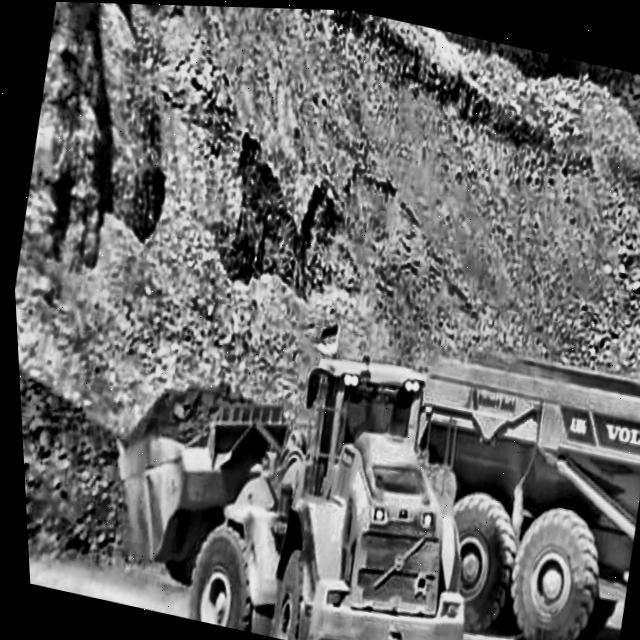buldozerpayloadergrader: (69, 299, 509, 640)
dump_truck: (363, 297, 640, 640)
